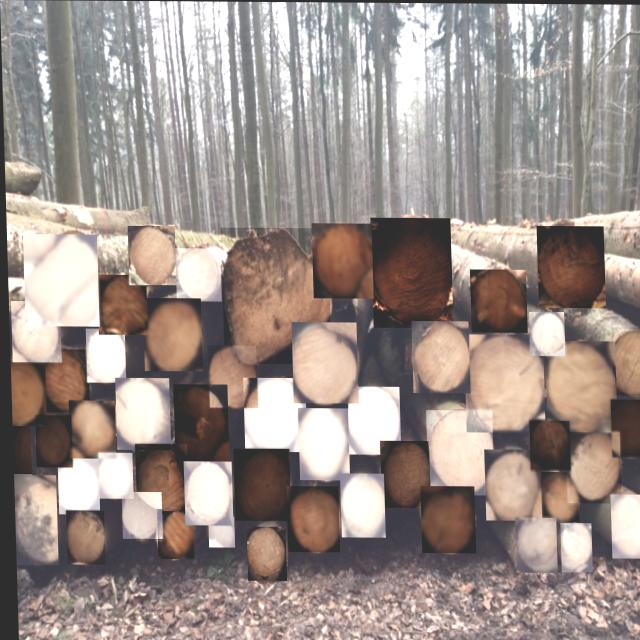wood-log: (219, 227, 329, 364), (369, 217, 452, 328), (462, 334, 543, 433), (21, 234, 98, 327), (543, 340, 615, 433), (423, 409, 492, 495), (535, 225, 604, 308), (289, 322, 356, 403), (241, 377, 304, 452), (310, 223, 372, 298), (141, 298, 201, 371), (171, 384, 227, 461), (409, 320, 468, 393), (230, 448, 288, 521), (481, 449, 539, 520), (563, 431, 619, 502), (113, 378, 168, 450), (11, 475, 55, 565), (417, 485, 473, 553), (132, 444, 186, 514), (295, 408, 347, 480), (345, 386, 399, 455), (468, 269, 526, 332), (283, 485, 337, 552), (377, 440, 428, 507), (181, 461, 230, 525), (95, 274, 146, 335), (9, 301, 59, 362), (207, 345, 256, 407), (40, 349, 88, 412), (337, 473, 383, 537), (126, 226, 175, 285), (66, 400, 114, 459), (174, 248, 220, 301), (8, 359, 44, 426), (55, 458, 97, 514), (512, 517, 554, 572), (243, 526, 284, 581), (84, 328, 124, 383), (607, 494, 640, 558), (63, 510, 102, 564), (610, 326, 640, 395), (527, 421, 568, 471), (537, 471, 577, 521), (33, 415, 70, 467), (119, 492, 159, 540), (608, 399, 640, 457), (154, 511, 191, 560), (95, 453, 131, 499), (527, 311, 563, 355), (557, 522, 589, 571), (10, 422, 29, 484), (205, 516, 232, 547), (638, 271, 640, 305)
